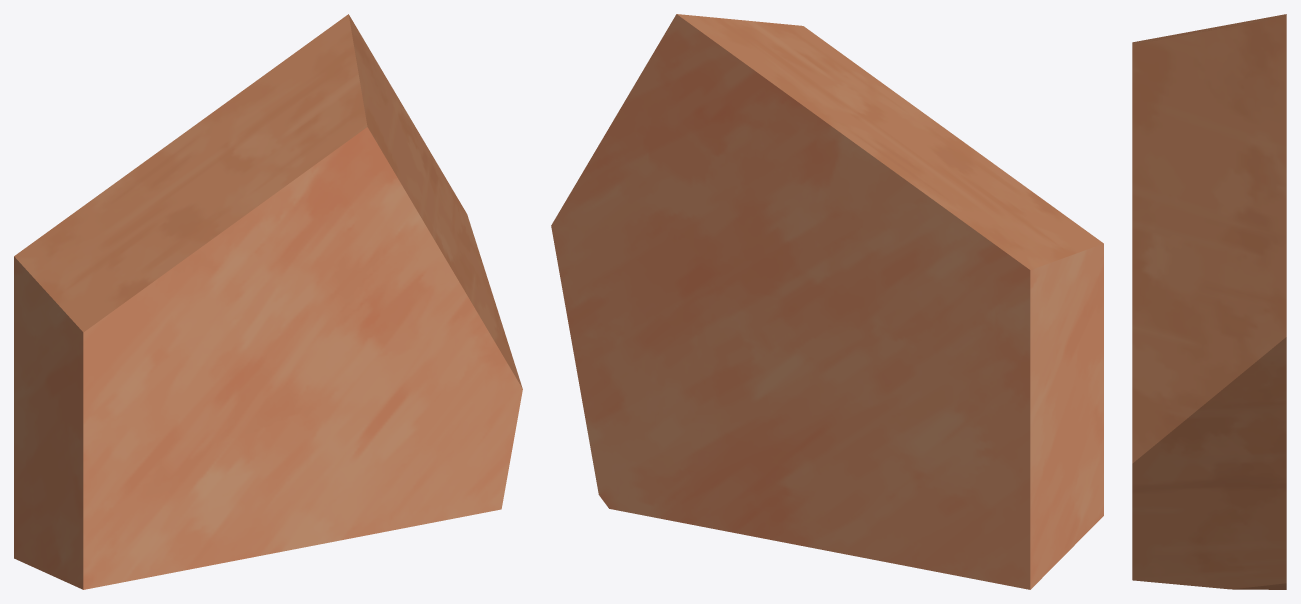
The model's file is wall_upper_s06.fbx.
3 renders of one model, left to right at view 1: azimuth 30°, elevation 25°; view 2: azimuth 150°, elevation 25°; view 3: azimuth 270°, elevation 25°, orthographic. The views are drawn at different scales.
Visible parts, largest first — view 1: wall_upper_s06; view 2: wall_upper_s06; view 3: wall_upper_s06.
Part boxes in pixels (x1,y1,x2,y2): wall_upper_s06: (14,14,522,589); wall_upper_s06: (551,14,1103,589); wall_upper_s06: (1132,14,1286,589).
Size of the model in its own units: 3.77 by 3.84 by 1.
